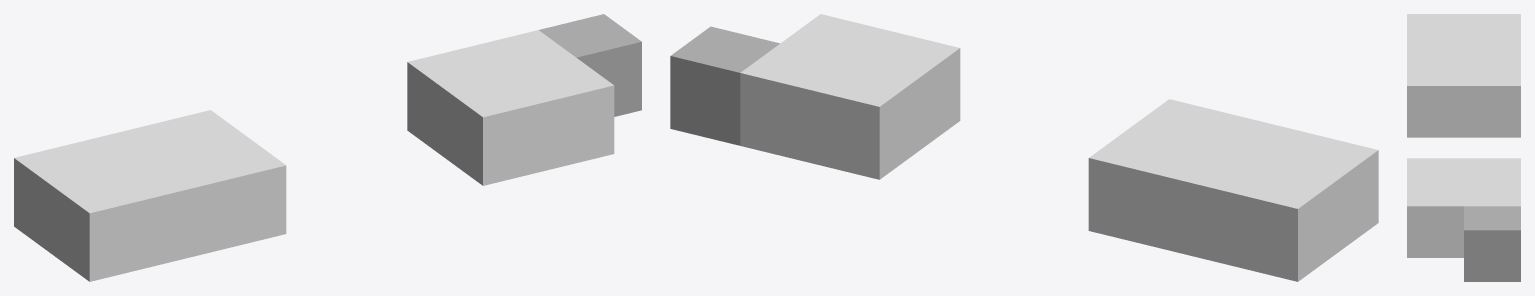
File: bear2-2.obj
3 views of the same model, side by side, from view 1: azimuth 30°, elevation 25°; view 2: azimuth 150°, elevation 25°; view 3: azimuth 270°, elevation 25° (orthographic). The views are drawn at different scales.
Bounding box in the file's own units: 0.9 × 0.1 × 0.2.
Materials: 1 (1 with a texture image).
